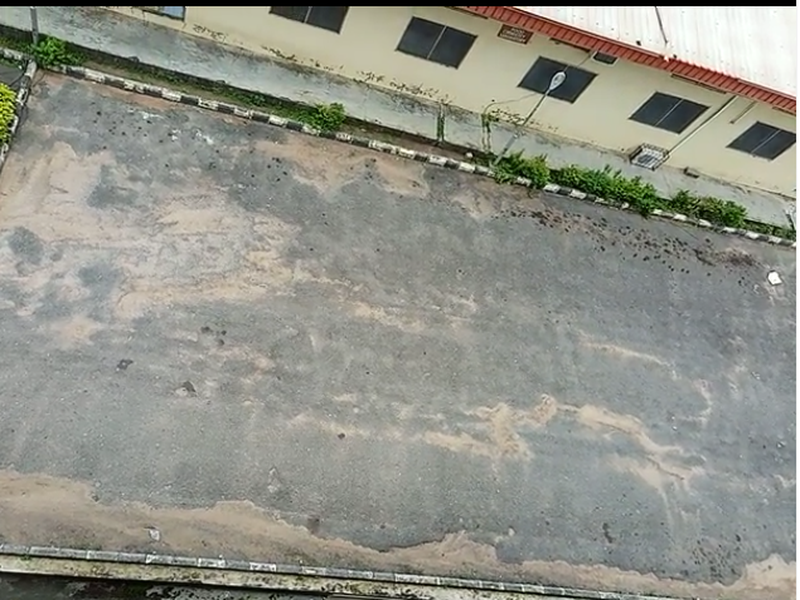five: (719, 204, 800, 374)
four: (560, 172, 667, 364)
one: (5, 61, 150, 316)
three: (394, 140, 507, 349)
two: (216, 102, 350, 326)
